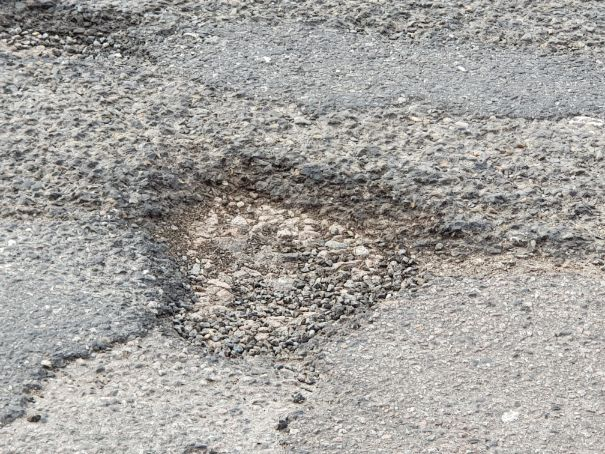pothole: (128, 158, 444, 360)
